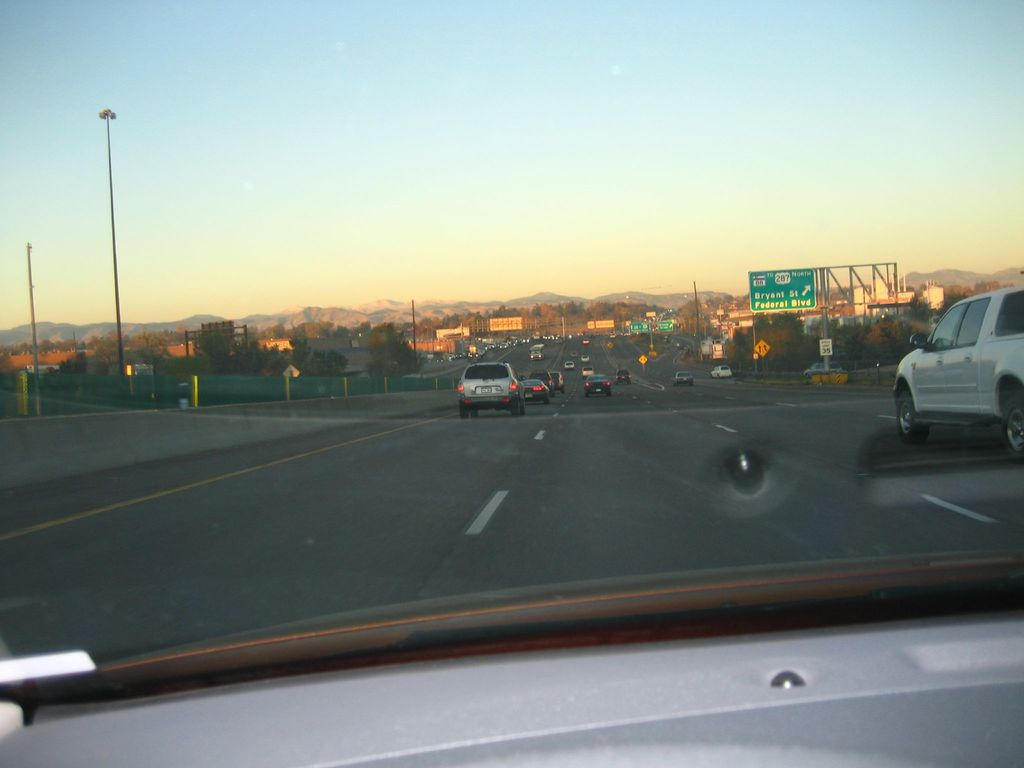Car: (0, 0, 1023, 767), (892, 280, 1024, 451), (455, 359, 525, 417), (439, 341, 495, 360), (519, 378, 549, 403), (584, 370, 610, 397), (528, 370, 554, 394), (801, 364, 840, 378), (498, 336, 529, 348), (672, 371, 693, 388), (548, 369, 564, 391), (709, 364, 732, 378), (614, 368, 630, 385), (581, 329, 599, 344), (580, 364, 594, 380), (563, 361, 573, 370), (580, 353, 589, 362), (553, 336, 560, 344), (569, 350, 577, 357)
